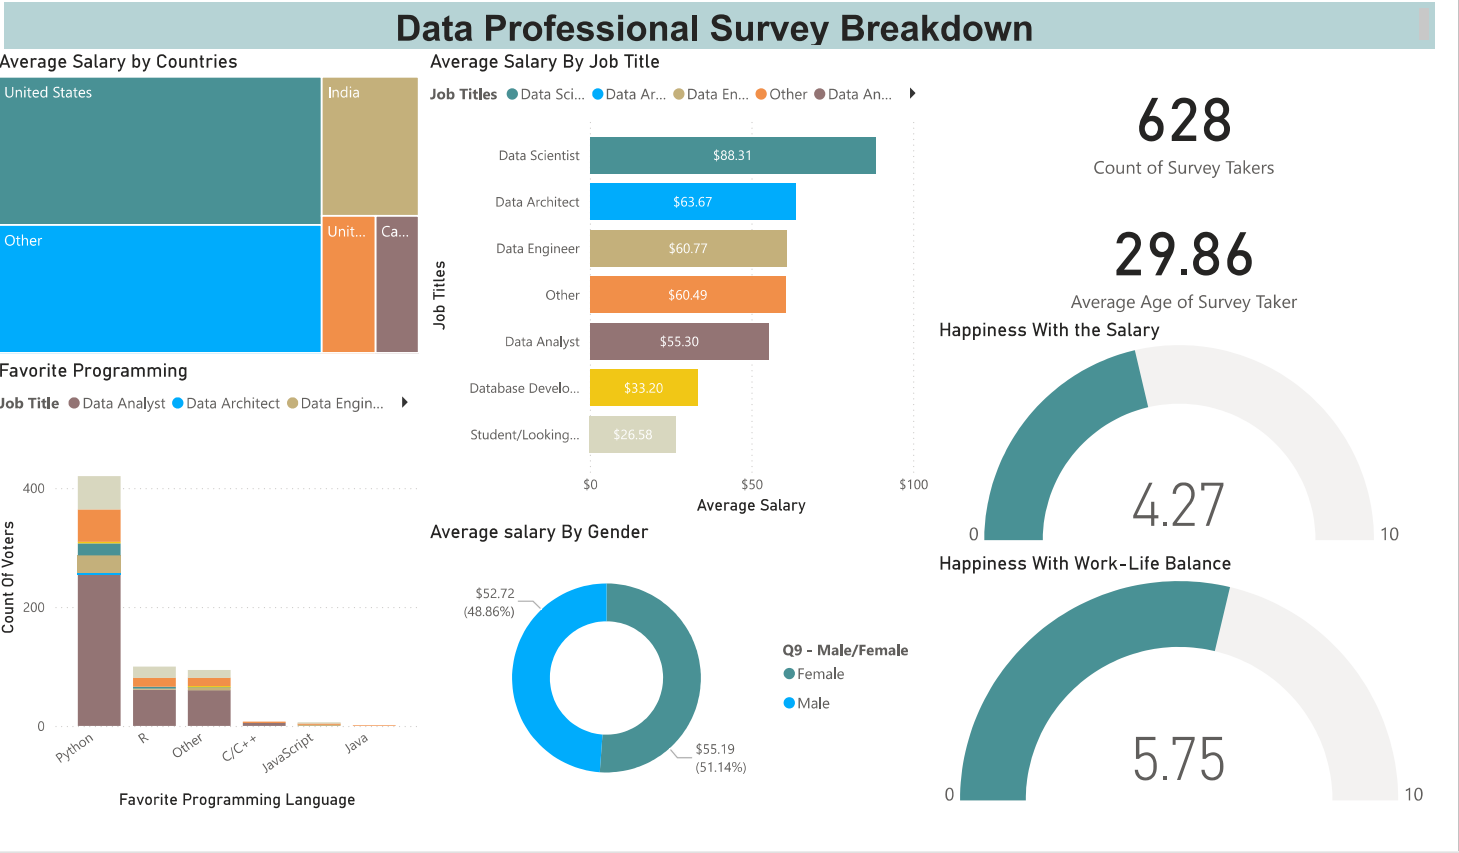

This screenshot's page, from the dashboard's own definition file:
{"tool":"powerbi","page":{"name":"Project 1","canvas":[1280,720],"ordinal":0},"visuals":[{"type":"textbox","box":[9.7,0,1270.3,41.8],"z":0},{"type":"card","fields":{"Values":["Count(Data Professional Survey (2).Unique ID)"]},"box":[835,42,445,130.6],"z":1000},{"type":"card","fields":{"Values":["Avg(Data Professional Survey (2).Q10 - Current Age)"]},"box":[835,172.6,445,107.3],"z":2000},{"type":"barChart","title":"Average Salary By Job Title","fields":{"Category":["Data Professional Survey (2).Q1 - Which Title Best Fits your Current Role?.1"],"Y":["Avg(Data Professional Survey (2).Average Salary)"],"Series":["Data Professional Survey (2).Q1 - Which Title Best Fits your Current Role?.1"]},"box":[382.5,42,452.5,417],"z":3000},{"type":"columnChart","title":"Favorite Programming","fields":{"Category":["Data Professional Survey (2).Q5 - Favorite Programming Language.1"],"Y":["CountNonNull(Data Professional Survey (2).Unique ID)"],"Series":["Data Professional Survey (2).Q1 - Which Title Best Fits your Current Role?.1"]},"box":[0,316.3,382.5,404],"z":4000},{"type":"treemap","fields":{"Group":["Data Professional Survey (2).Q11 - Which Country do you live in?.1"],"Values":["CountNonNull(Data Professional Survey (2).Q11 - Which Country do you live in?.1)"]},"box":[0,42,382.5,274.3],"z":5000},{"type":"gauge","title":"Happiness With Work-Life Balance","fields":{"MaxValue":["Max(Data Professional Survey (2).Q6 - How Happy are you in your Current Position with the following? (Work/Life Balance)"],"Y":["Avg(Data Professional Survey (2).Q6 - How Happy are you in your Current Position with the following? (Work/Life Balance)"],"MinValue":["Min(Data Professional Survey (2).Q6 - How Happy are you in your Current Position with the following? (Work/Life Balance)"]},"box":[835,487,445,233.2],"z":6000},{"type":"gauge","title":"Happiness With the Salary","fields":{"Y":["Avg(Data Professional Survey (2).Q6 - How Happy are you in your Current Position with the following? (Salary))"],"MinValue":["Min(Data Professional Survey (2).Q6 - How Happy are you in your Current Position with the following? (Salary))"],"MaxValue":["Max(Data Professional Survey (2).Q6 - How Happy are you in your Current Position with the following? (Salary))"]},"box":[835,279.9,445,207.1],"z":7000},{"type":"donutChart","title":"Average salary By Gender","fields":{"Category":["Data Professional Survey (2).Q9 - Male/Female?"],"Y":["Avg(Data Professional Survey (2).Average Salary)"]},"box":[382.5,459,452.5,261.2],"z":8000}]}

Visuals, with their boxes on the page's 1280x720 design canvas (x1, y1, x2, y2). These are canvas units, not pixel positions in the 1459x853 screenshot, which may show the page scaled, cropped or inside an application window:
textbox: (x1=10, y1=0, x2=1280, y2=42)
card - Count(Data Professional Survey (2).Unique ID): (x1=835, y1=42, x2=1280, y2=173)
card - Avg(Data Professional Survey (2).Q10 - Current Age): (x1=835, y1=173, x2=1280, y2=280)
"Average Salary By Job Title" barChart: (x1=382, y1=42, x2=835, y2=459)
"Favorite Programming" columnChart: (x1=0, y1=316, x2=382, y2=720)
treemap - Data Professional Survey (2).Q11 - Which Country do you live in?.1 x CountNonNull(Data Professional Survey (2).Q11 - Which Country do you live in?.1): (x1=0, y1=42, x2=382, y2=316)
"Happiness With Work-Life Balance" gauge: (x1=835, y1=487, x2=1280, y2=720)
"Happiness With the Salary" gauge: (x1=835, y1=280, x2=1280, y2=487)
"Average salary By Gender" donutChart: (x1=382, y1=459, x2=835, y2=720)
